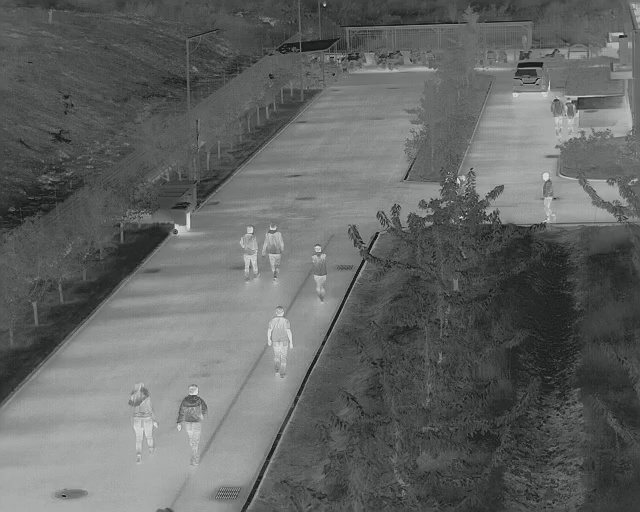person: (127, 382, 163, 464), (176, 384, 209, 470), (266, 305, 296, 378), (309, 245, 332, 303), (239, 221, 260, 284), (265, 221, 286, 283), (537, 170, 559, 225), (549, 93, 565, 139)
vehicle: (565, 94, 580, 134)
